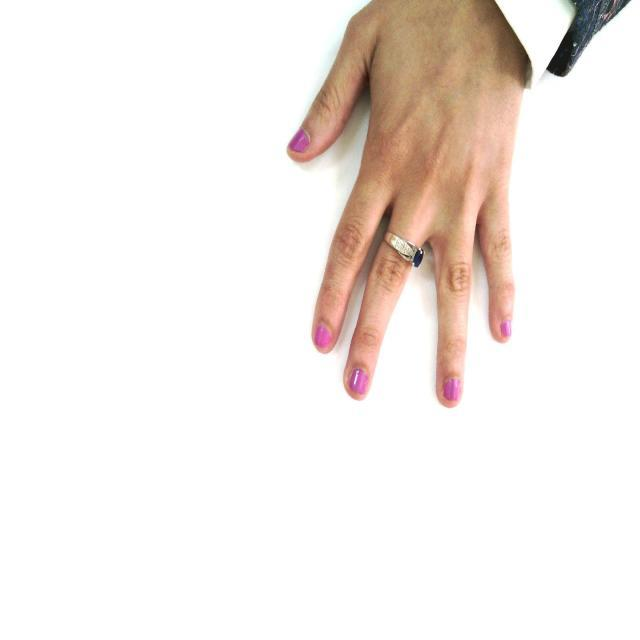Fingernail: (350, 370, 368, 396), (316, 325, 332, 351), (443, 378, 459, 403), (290, 130, 309, 150), (500, 321, 510, 339)
